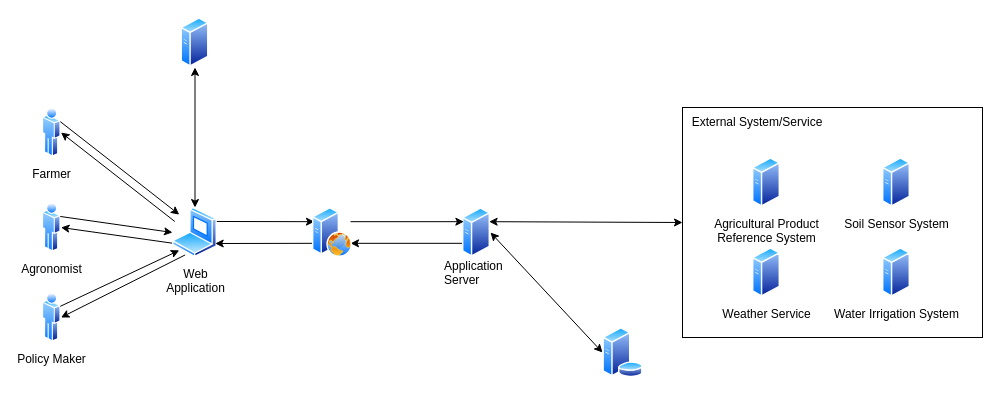
Image size: 1000x418. Some labels were removed from this diagram. The box of each missing label's shape, as (x1, y1, x2, y2) in pixels:
Database Server: (602, 327, 643, 377)
Google Maps System: (180, 17, 208, 67)
Web Server: (312, 207, 352, 257)
